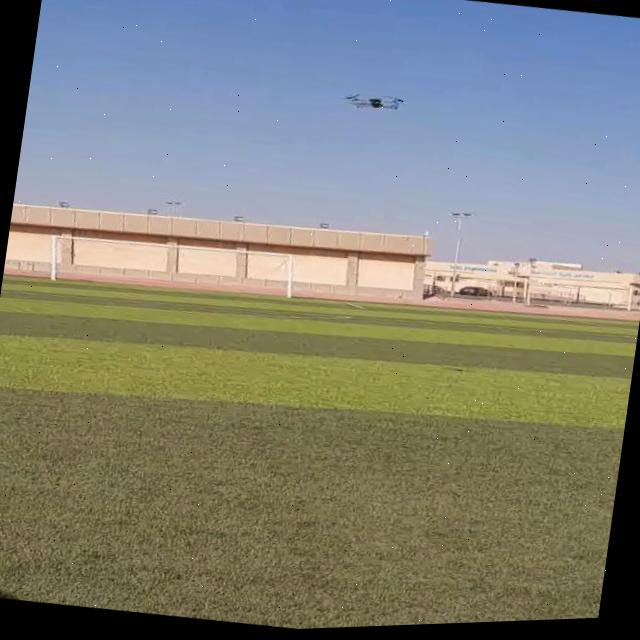drone: (338, 86, 406, 120)
